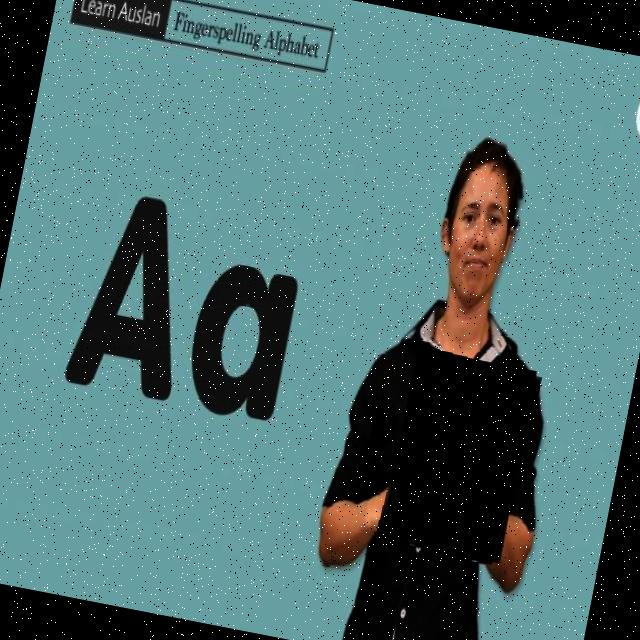A: (379, 348, 542, 568)
